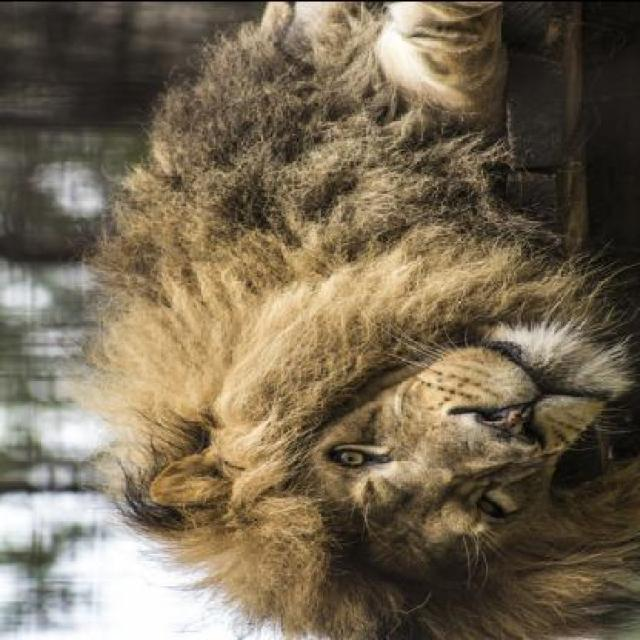Lion: (44, 1, 638, 632)
